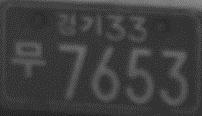3: (159, 48, 189, 108), (104, 12, 126, 42), (127, 13, 147, 44)
5: (124, 47, 154, 105)
6: (89, 44, 121, 102)
7: (56, 42, 88, 100)
경기_O: (56, 12, 102, 38)
무: (11, 40, 45, 79)
